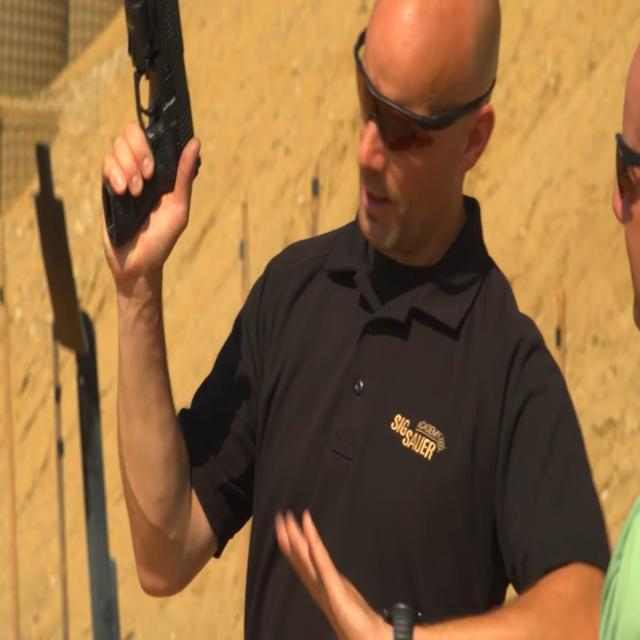Gun_Holder: (90, 0, 208, 261)
Person: (112, 0, 612, 640)
